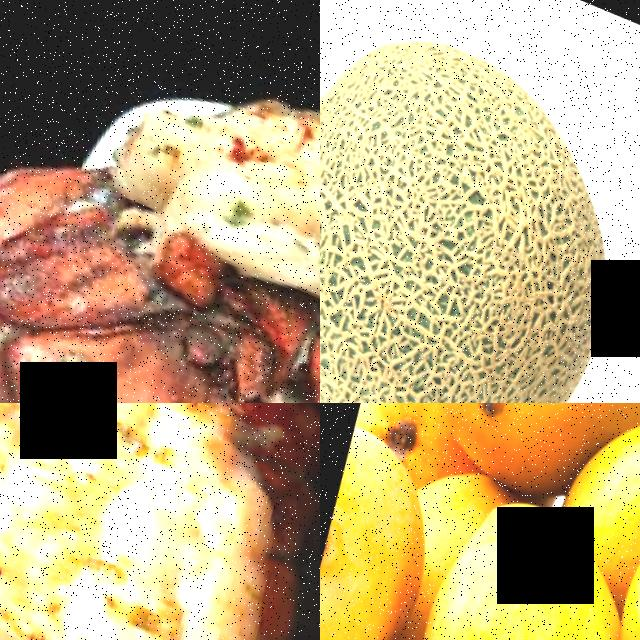lobster tails: (0, 52, 320, 403), (0, 403, 320, 640)
mango: (369, 469, 640, 640)
melon: (320, 0, 640, 403)
